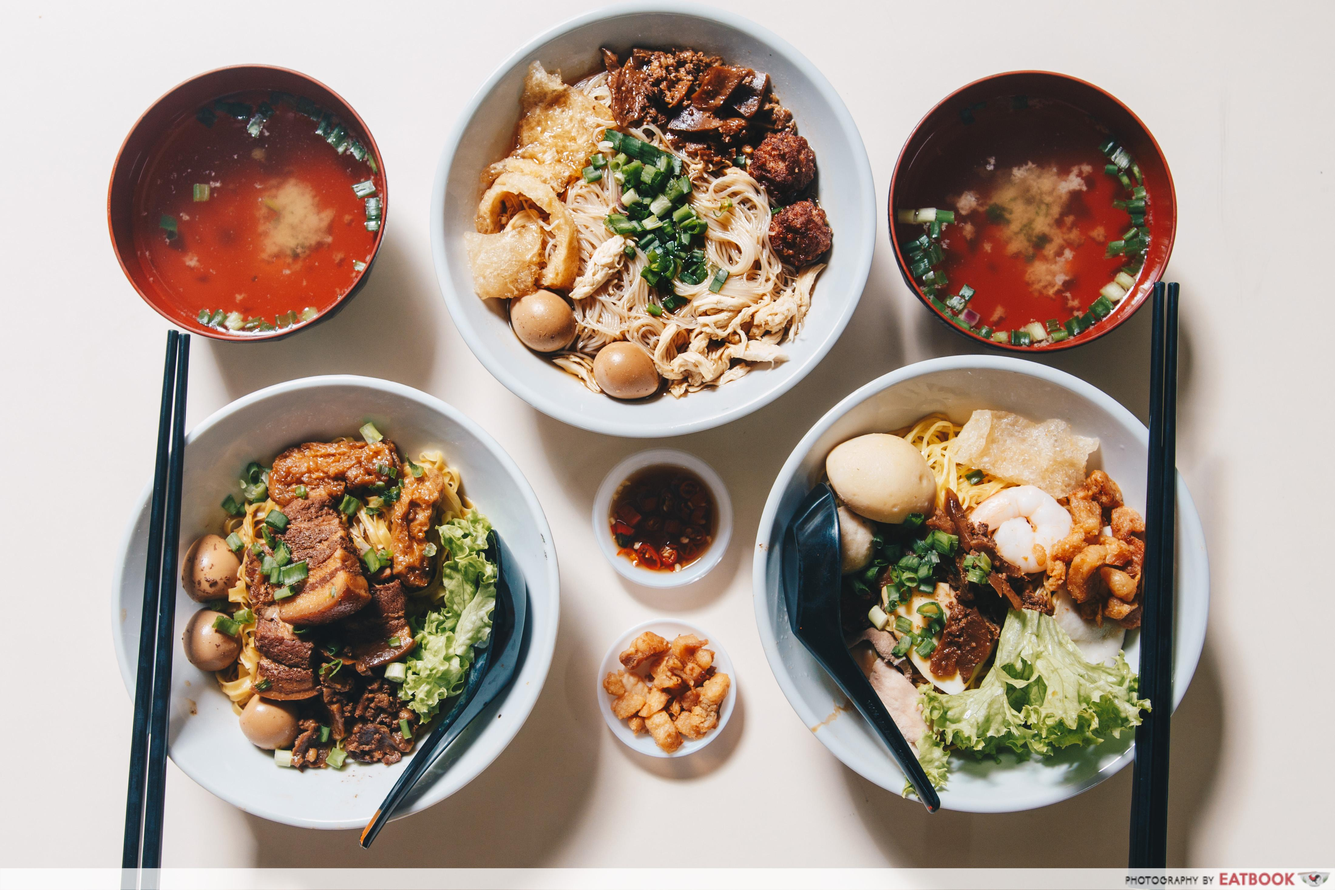Braised Crucian Carp: (752, 381, 1216, 806), (107, 391, 561, 819), (442, 4, 877, 435)
